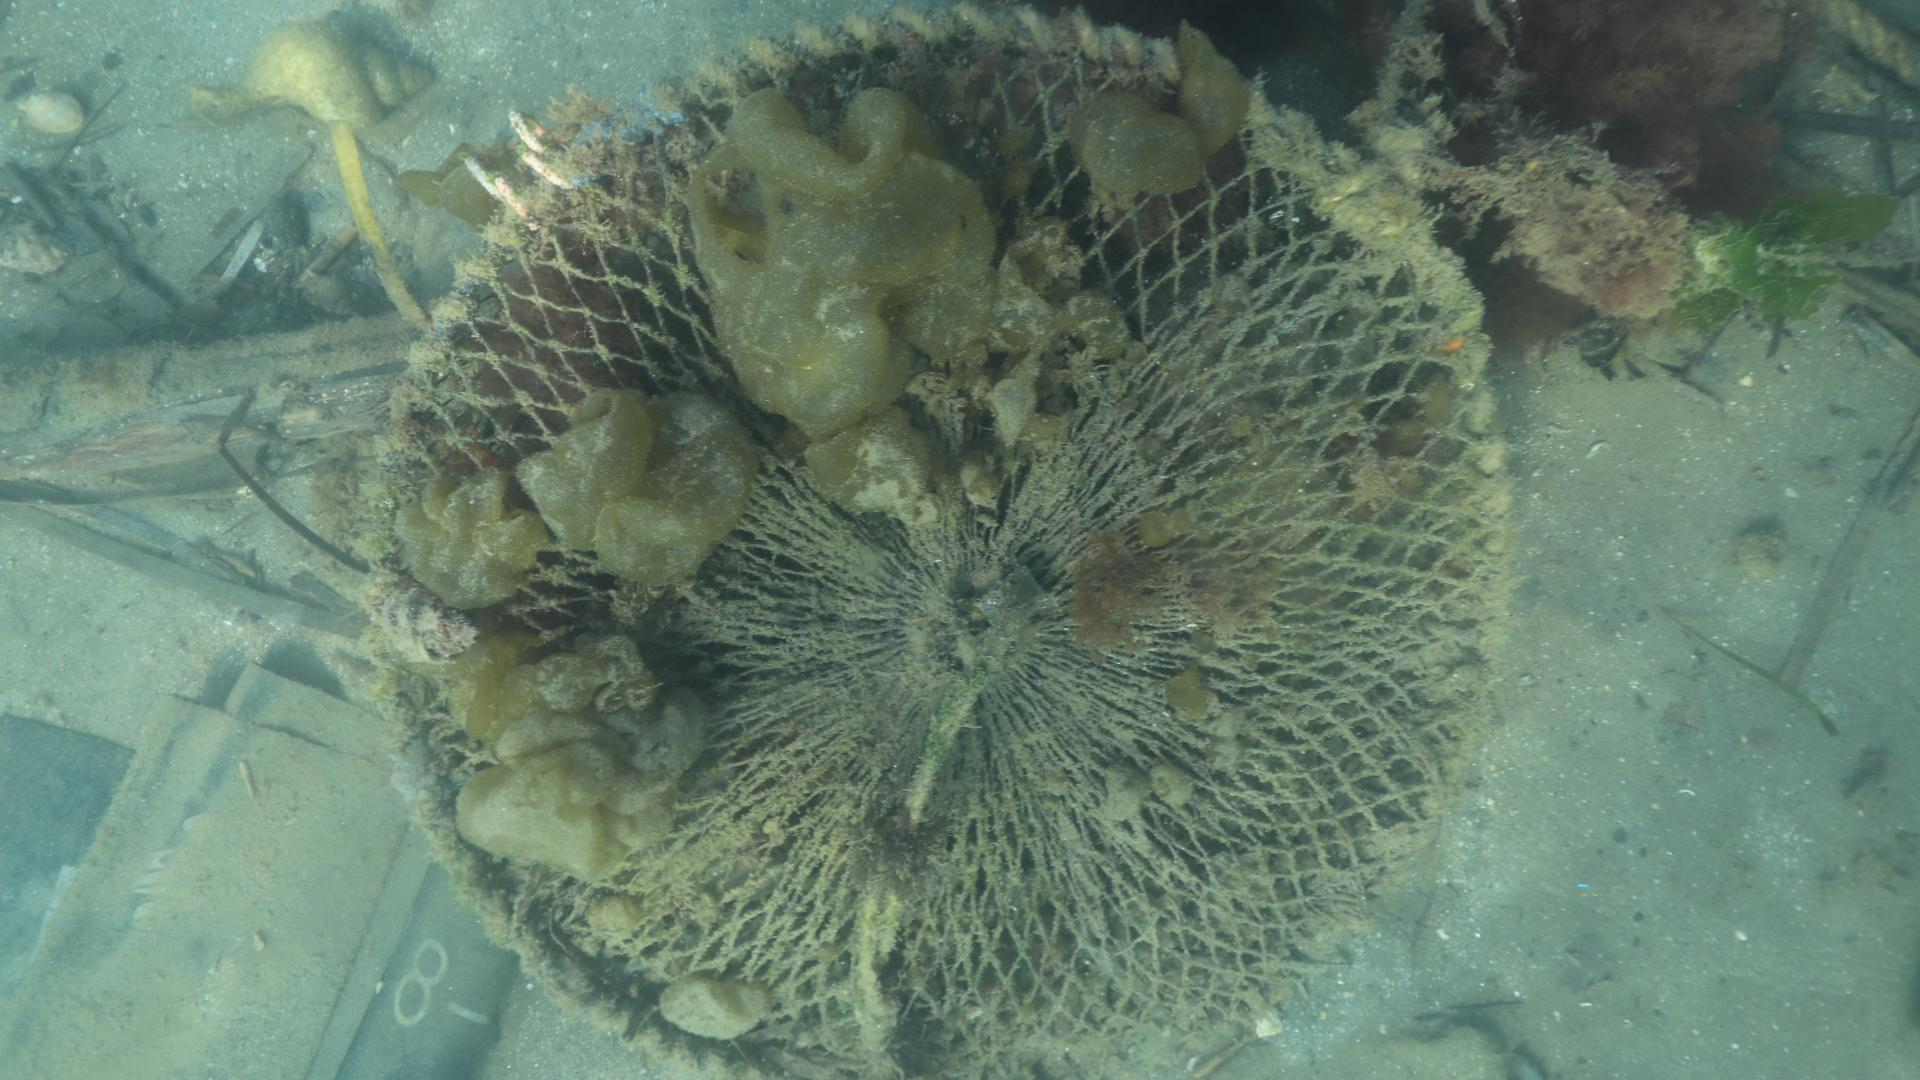circular fish trap: (357, 5, 1516, 1080)
